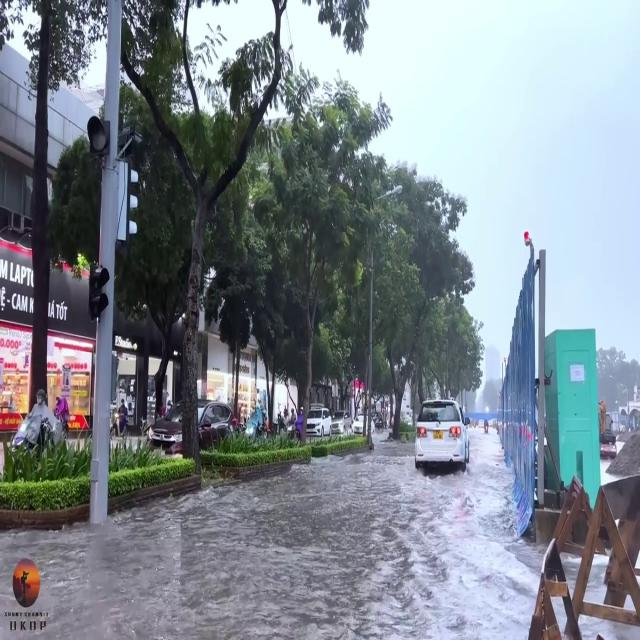bien_vang: (432, 431, 442, 438)
